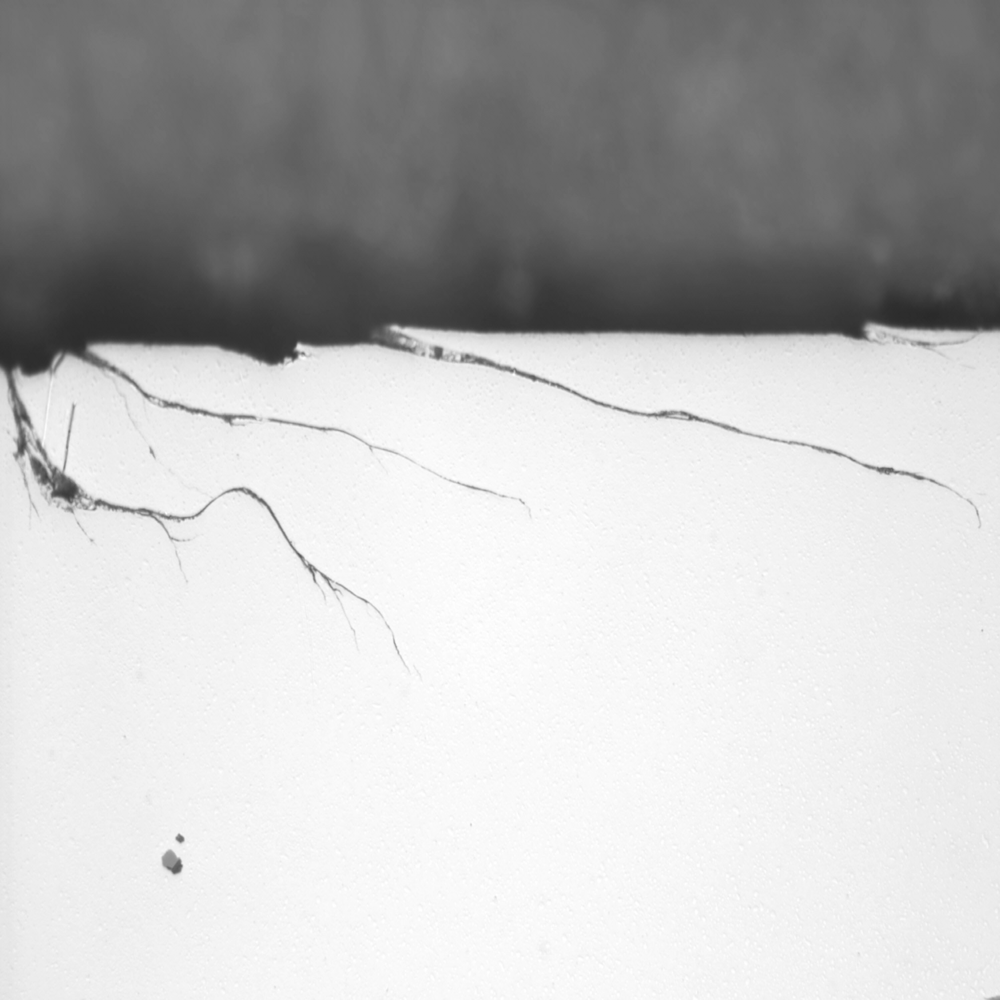crack: (1, 352, 427, 683), (365, 310, 998, 529), (60, 331, 555, 531)
